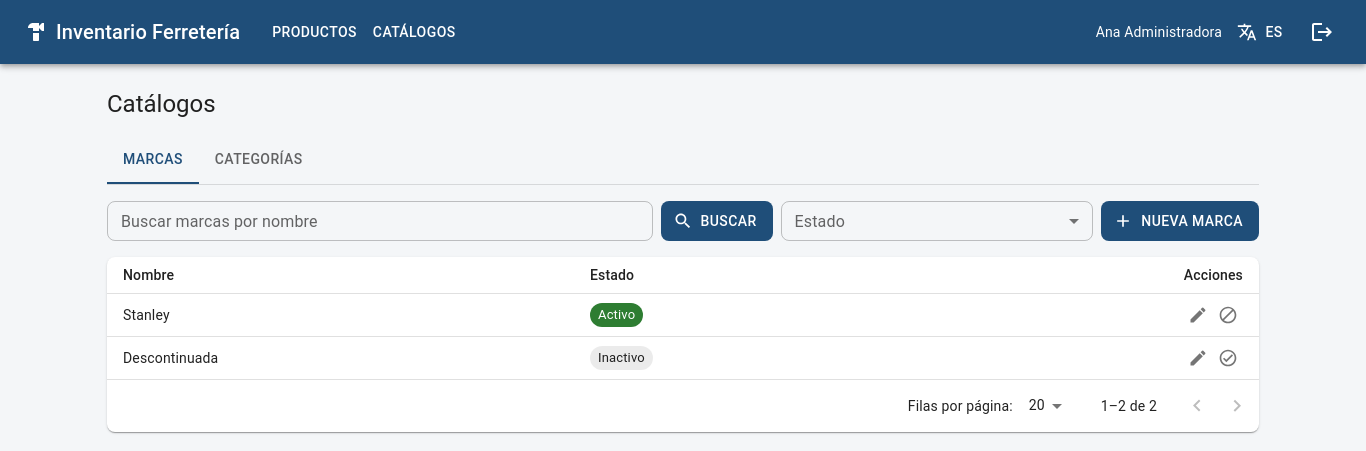
it: CatalogosPage › muestra las marcas con su estado y cambia a categorías con la pestaña
This screenshot has width=1366, height=451.
Expected: the element with test id "catalogo-marca-estado-1" reads "Activo", [598,307,635,322]
Expected: the element with test id "catalogo-marca-estado-7" reads "Inactivo", [598,350,645,365]
Click the tab with test id "catalogos-pestana-categorias": (259, 160) [199,136,319,184]
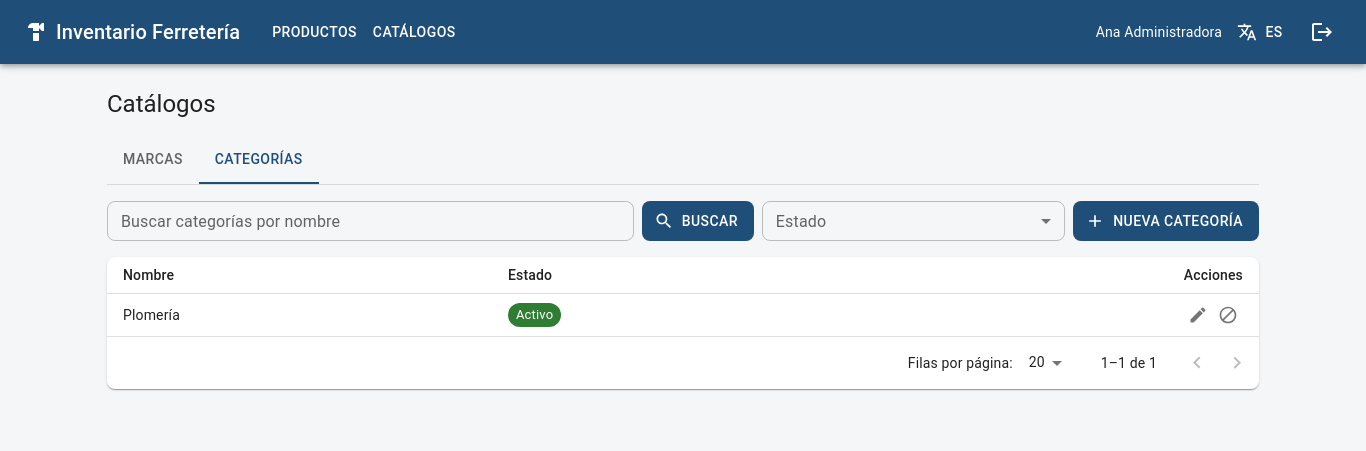
Expected: the row with test id "catalogo-categoria-fila-3" shows "Plomería", [123,307,180,323]
